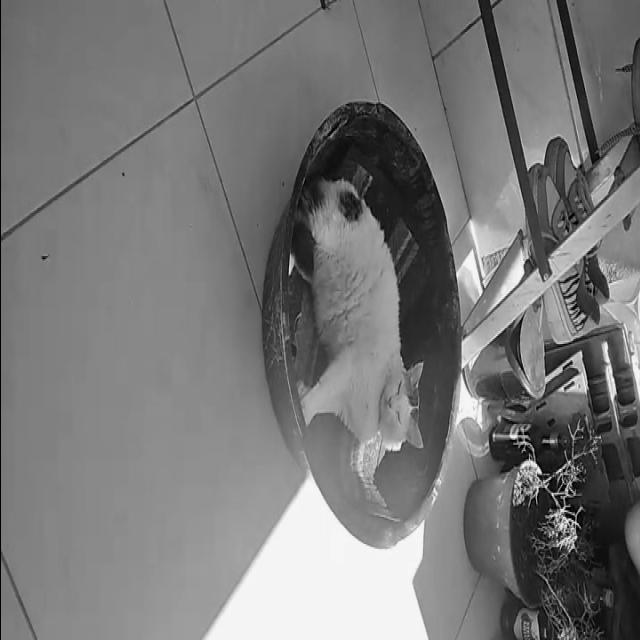Simba: (308, 172, 418, 489)
